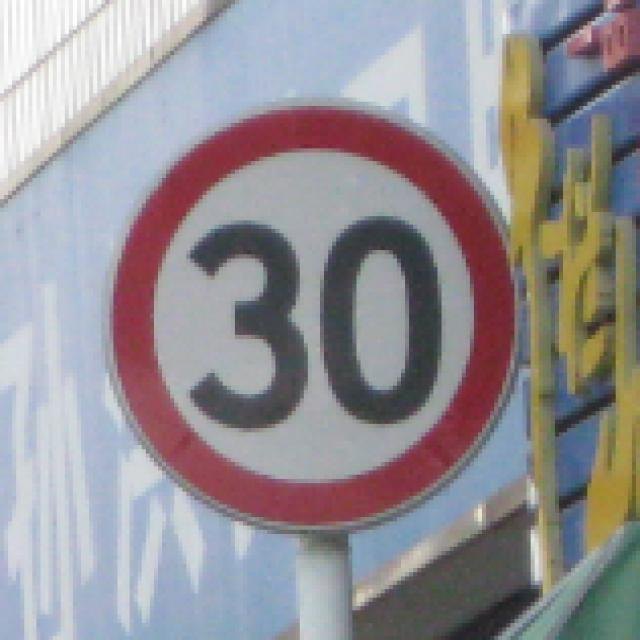Speed: (108, 93, 525, 538)
